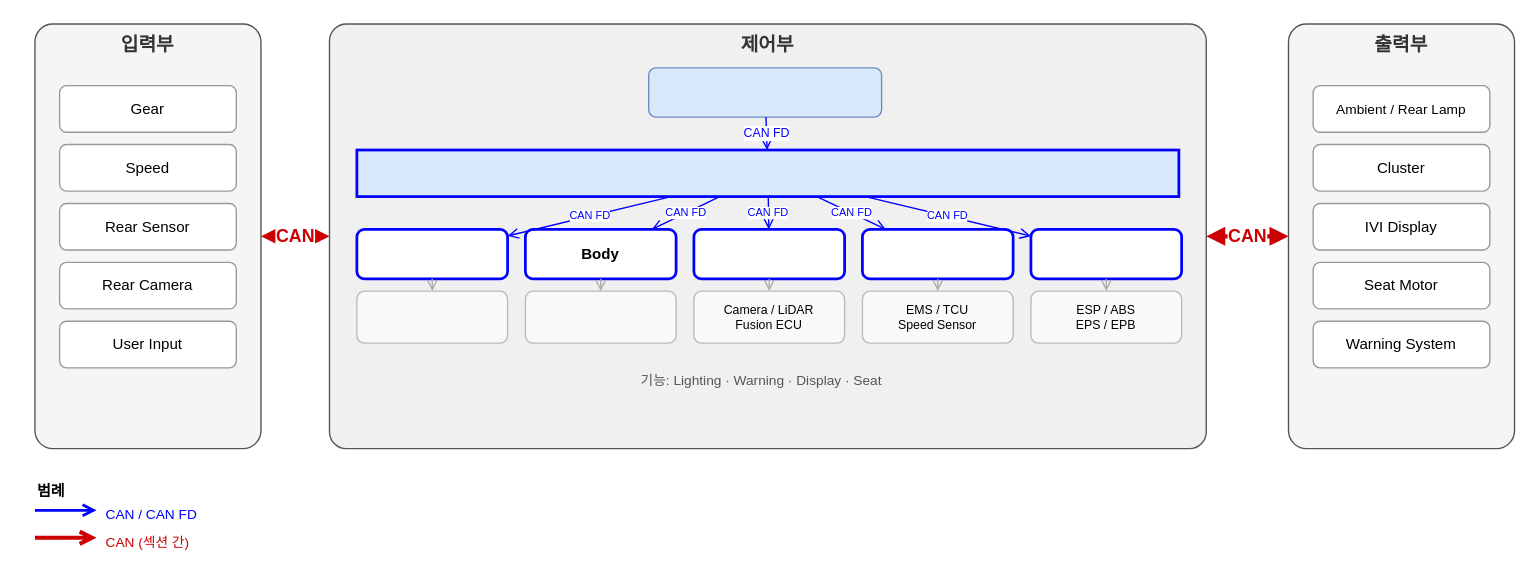
Some shapes in this 1539 by 577 pixel diagram are drawn without their labels. Here are the shapes that lost their labels. From the top down, the centre of each, then its label:
At pixel 764 91: "Central Gateway".
At pixel 767 172: "Bus (SWITCH)".
At pixel 431 253: "Infotainment".
At pixel 768 253: "ADAS".
At pixel 937 253: "Powertrain".
At pixel 1105 253: "Chassis".
At pixel 432 316: "IVI / HUD Cluster ECU".
At pixel 600 316: "BCM / HVAC Door / Seat".
